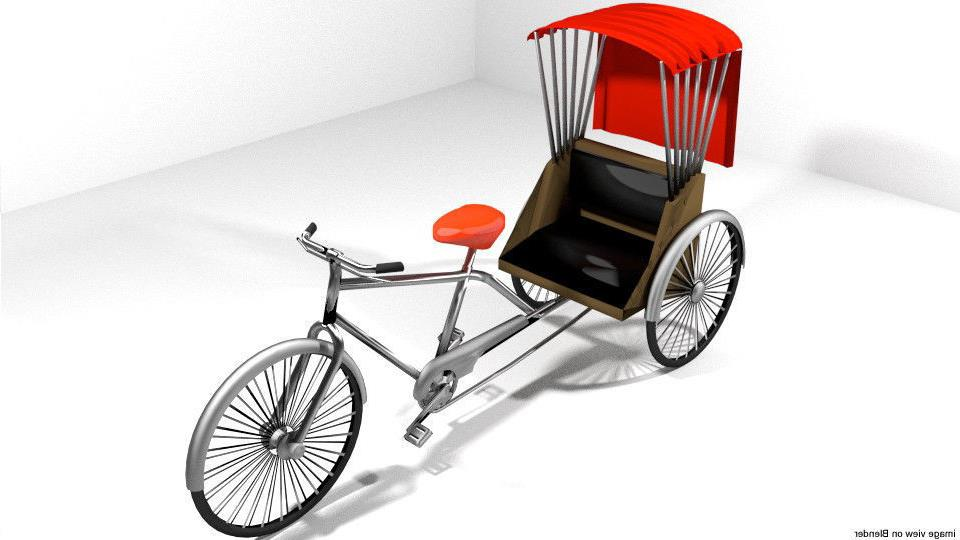Rickshaw: (170, 4, 761, 538)
